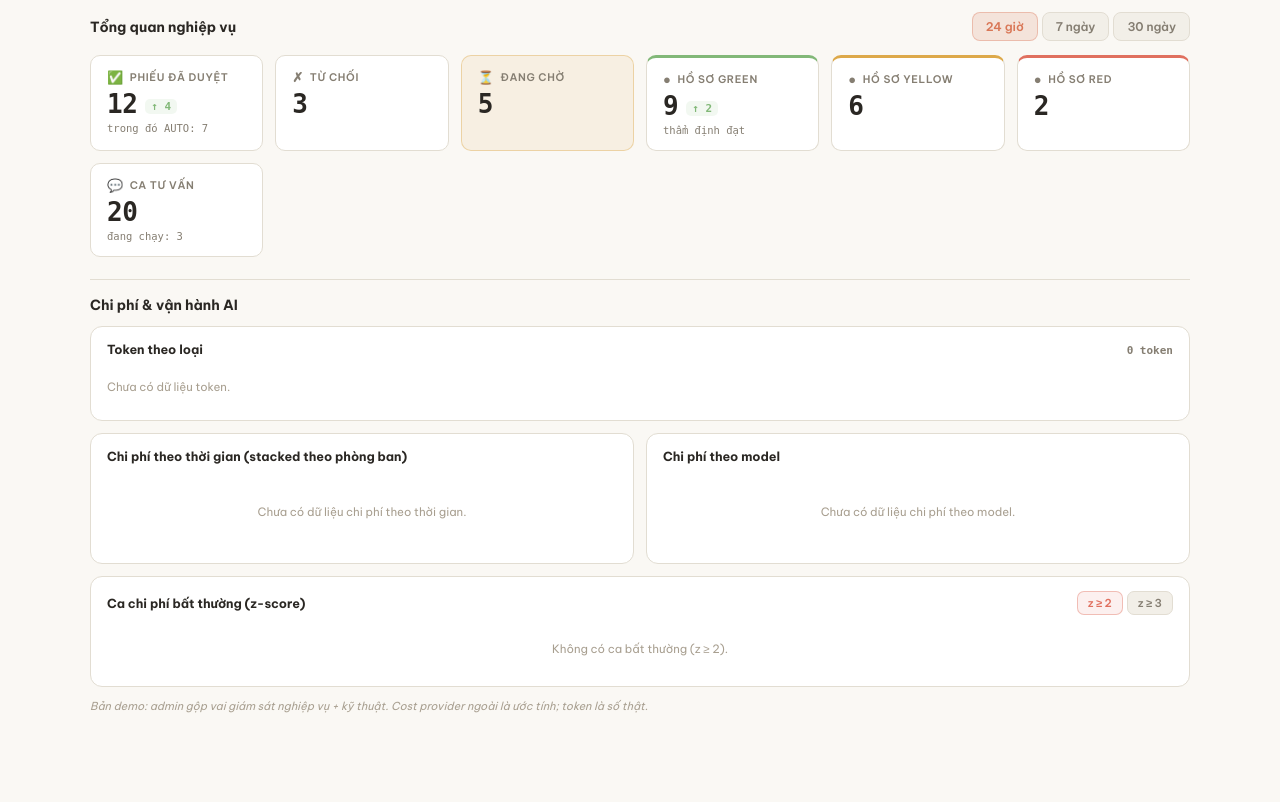
Test: StatsOverview (T13-2) › window switch today→7d → gọi lại getStats(7d) + số đổi
Expected: the text "12" is shown, [107,91,137,117]
Click the button with test id "window-7d".
click(1076, 26)  # box [1042,12,1109,41]
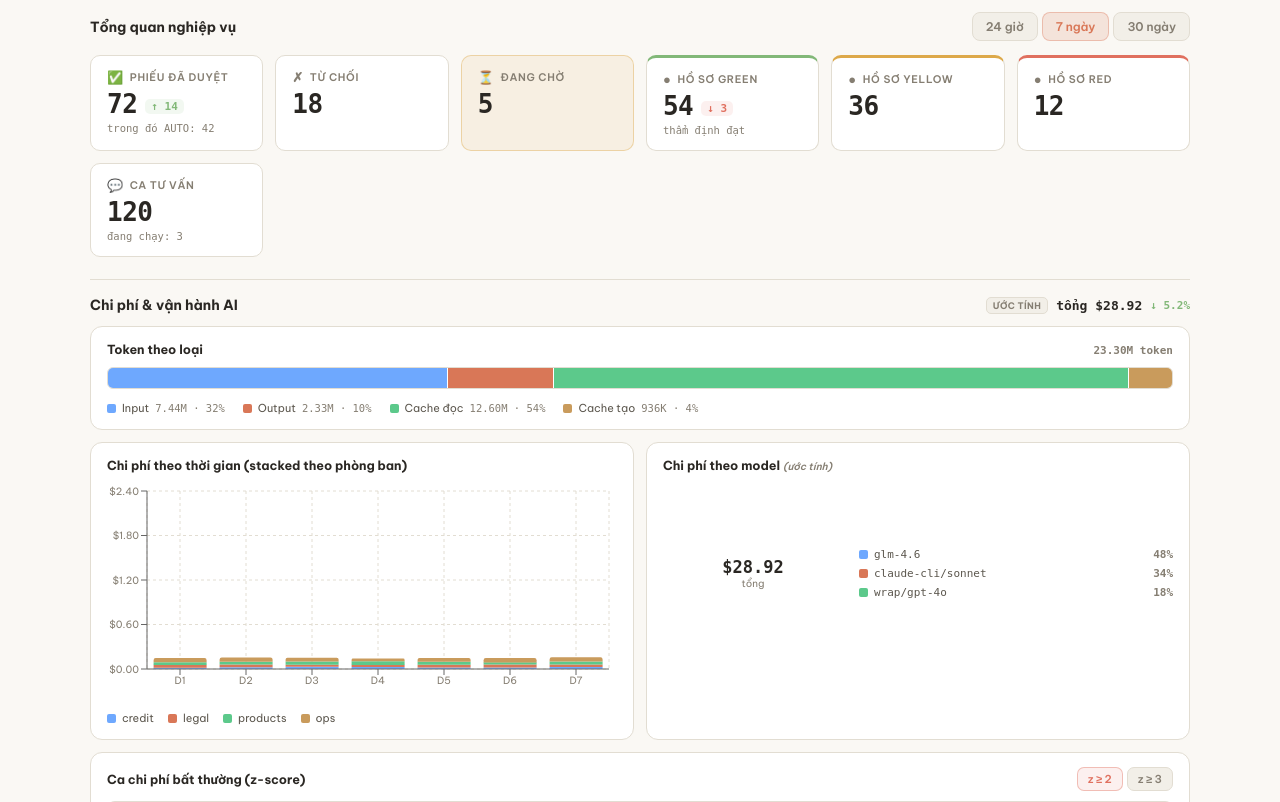
Expected: the text "72" is shown, [107,91,137,117]
